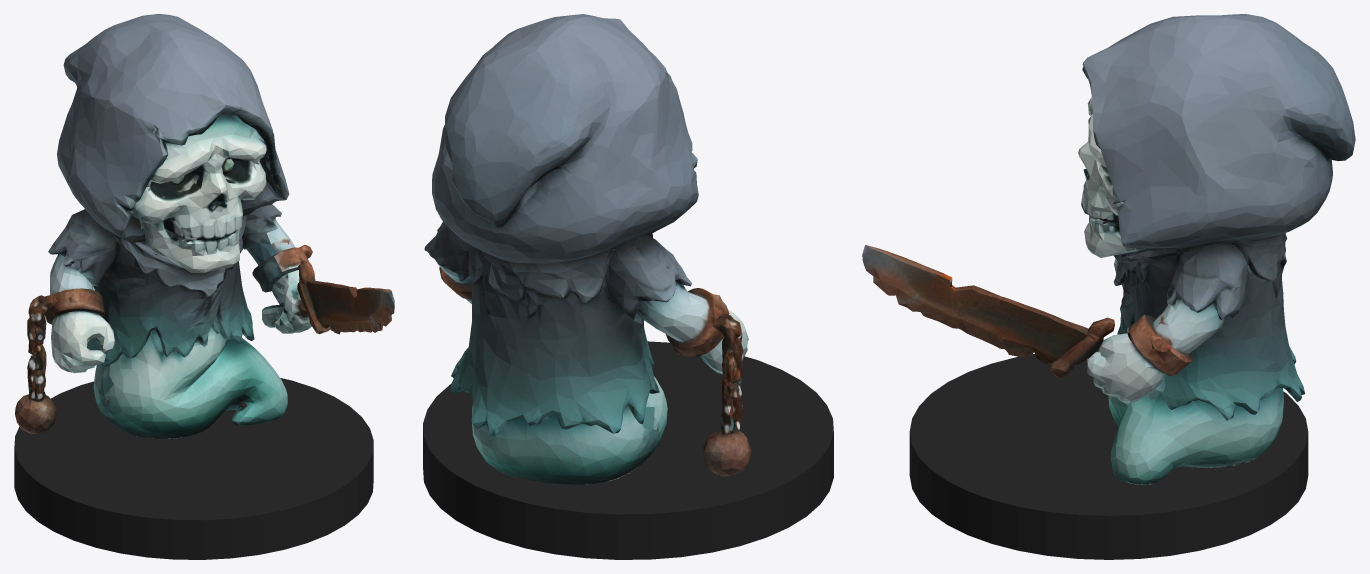
The model's file is nh-chainrasp.glb.
3 renders of one model, left to right at view 1: azimuth 30°, elevation 25°; view 2: azimuth 150°, elevation 25°; view 3: azimuth 270°, elevation 25°, orthographic. The views are drawn at different scales.
Visible parts, largest first — view 1: figure, base; view 2: figure, base; view 3: figure, base.
Part boxes in pixels (left/top/right/bottom): figure: left=15, top=14, right=394, bottom=438; base: left=14, top=378, right=373, bottom=559; figure: left=424, top=14, right=751, bottom=485; base: left=423, top=341, right=833, bottom=559; figure: left=862, top=14, right=1355, bottom=485; base: left=909, top=351, right=1308, bottom=559.
Bounding box in the file's own units: 0.9843 × 1.27 × 1.22.
Materials: 2 (1 with a texture image).
